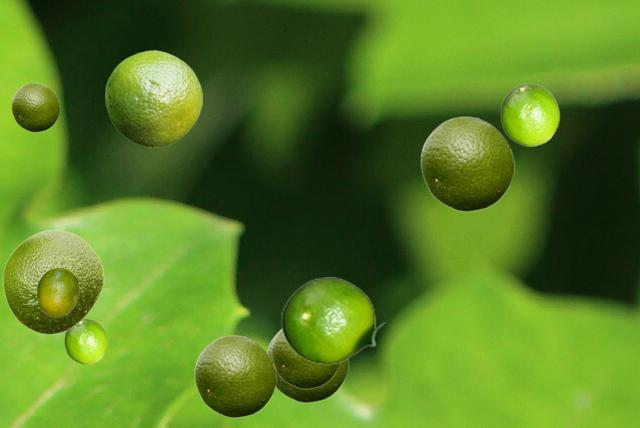calamansi: (2, 229, 103, 334), (280, 277, 386, 364), (105, 50, 201, 146), (420, 115, 514, 211), (194, 334, 276, 417), (267, 333, 348, 402), (271, 329, 340, 388), (500, 83, 559, 145), (22, 267, 78, 316), (11, 82, 59, 131), (64, 318, 107, 363)
